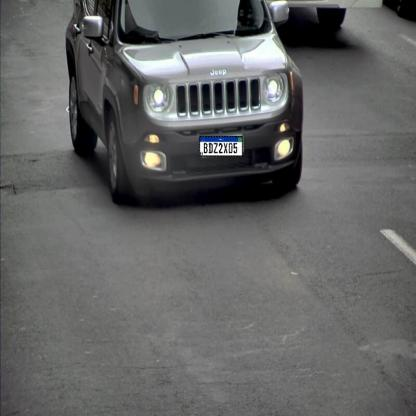PlacaM: (199, 136, 243, 157)
